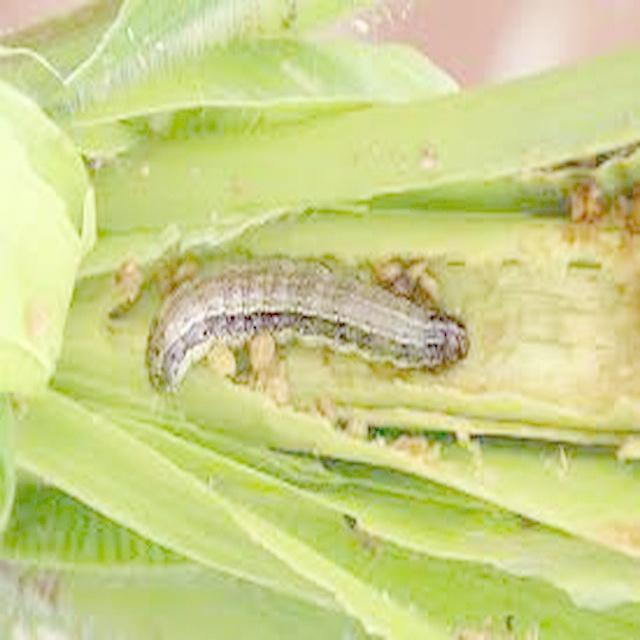gusano_cogollero: (146, 259, 473, 398)
